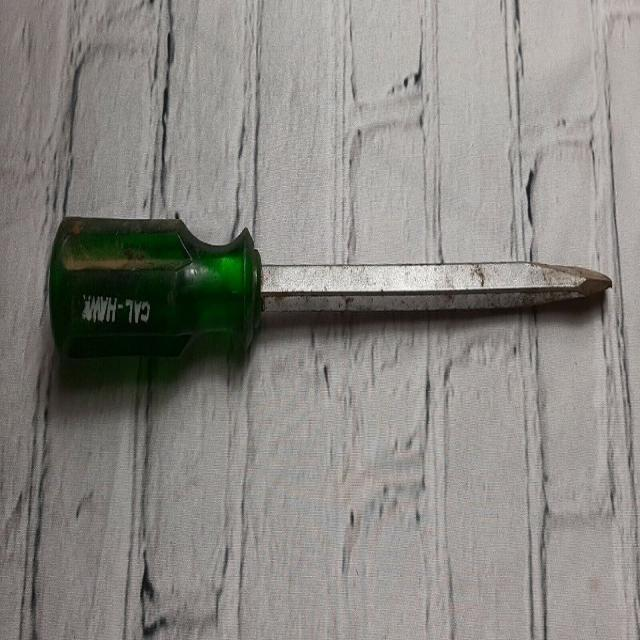screwdriver: (46, 206, 618, 364)
